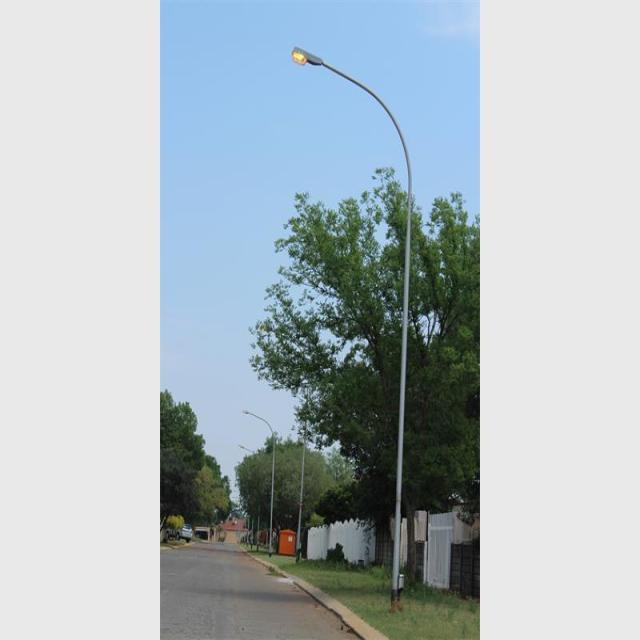Electric pole: (292, 46, 413, 603), (244, 410, 276, 557)
